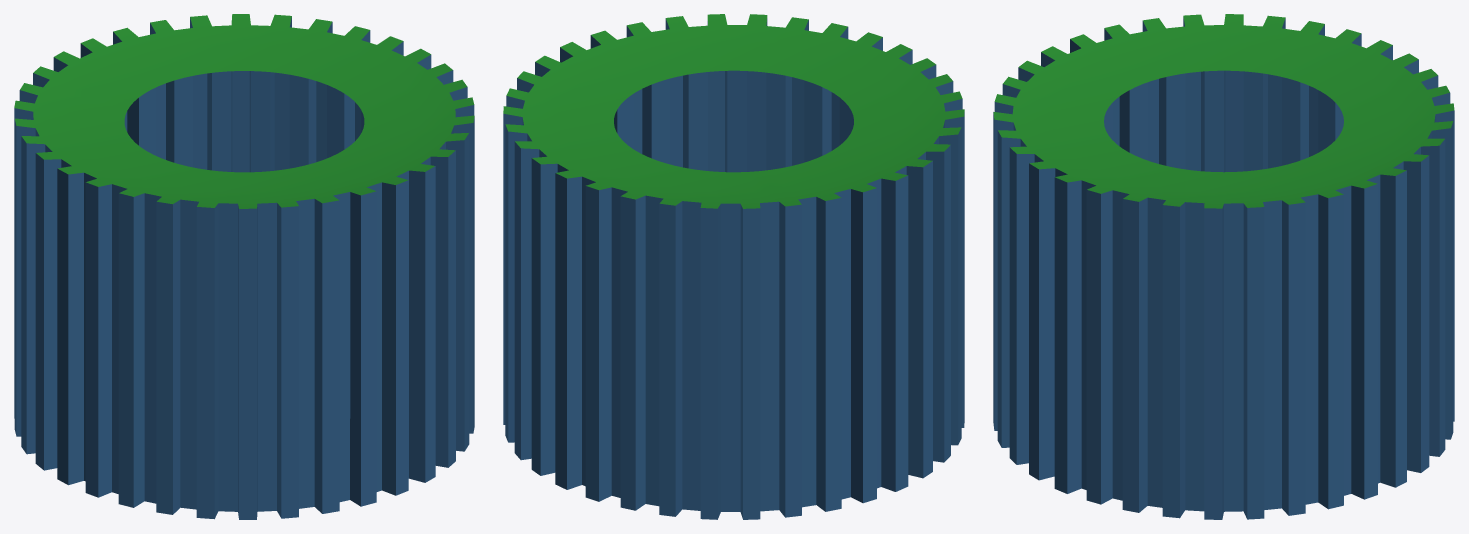
3 renders of one model, left to right at view 1: azimuth 30°, elevation 25°; view 2: azimuth 150°, elevation 25°; view 3: azimuth 270°, elevation 25°, orthographic.
Parts seen in each view (by area): view 1: Joint_0_Object_0; view 2: Joint_0_Object_0; view 3: Joint_0_Object_0.
Boxes of the visible parts, x1,y1,x2,y2 form: Joint_0_Object_0: (14, 14, 474, 519); Joint_0_Object_0: (503, 14, 964, 519); Joint_0_Object_0: (993, 14, 1454, 519).
Size of the model in its own units: 183 by 137 by 183.
